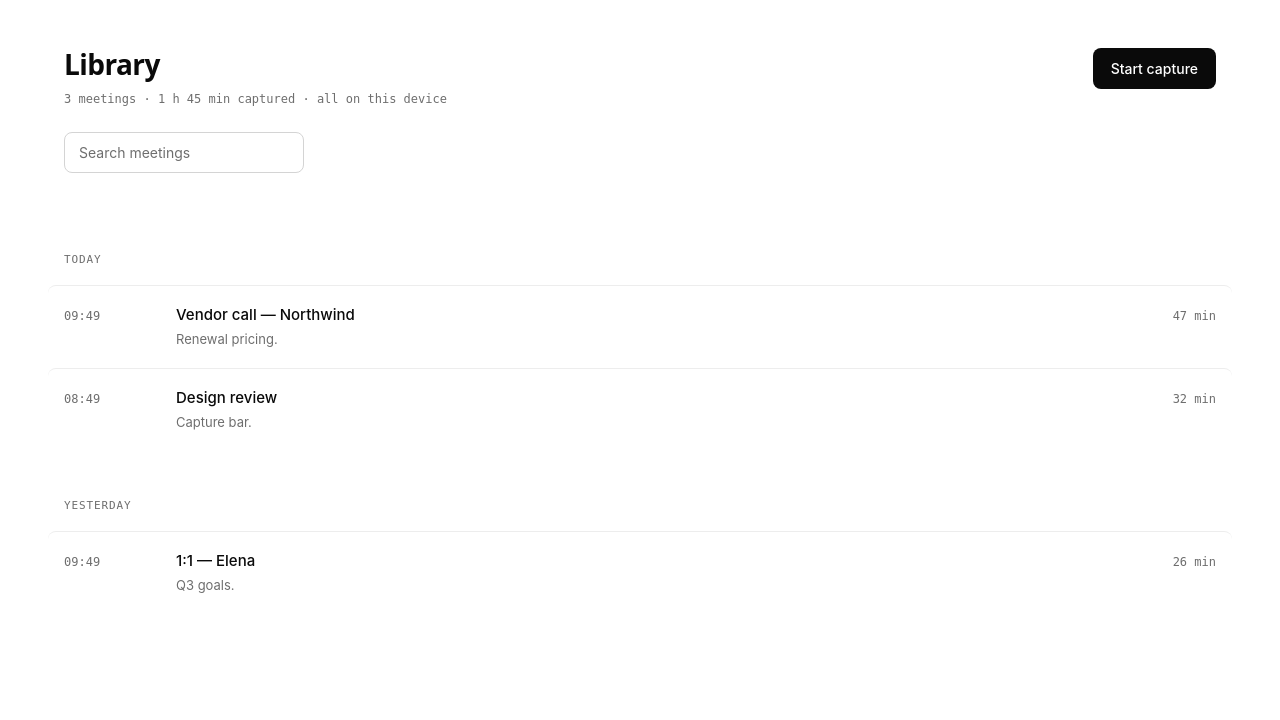
Test case: LibraryScreen search › typing filters the visible rows immediately
Type "northwind" into the search field labelled "Search meetings".
click(184, 152); type("northwind")  # box x1=64 y1=132 x2=304 y2=173
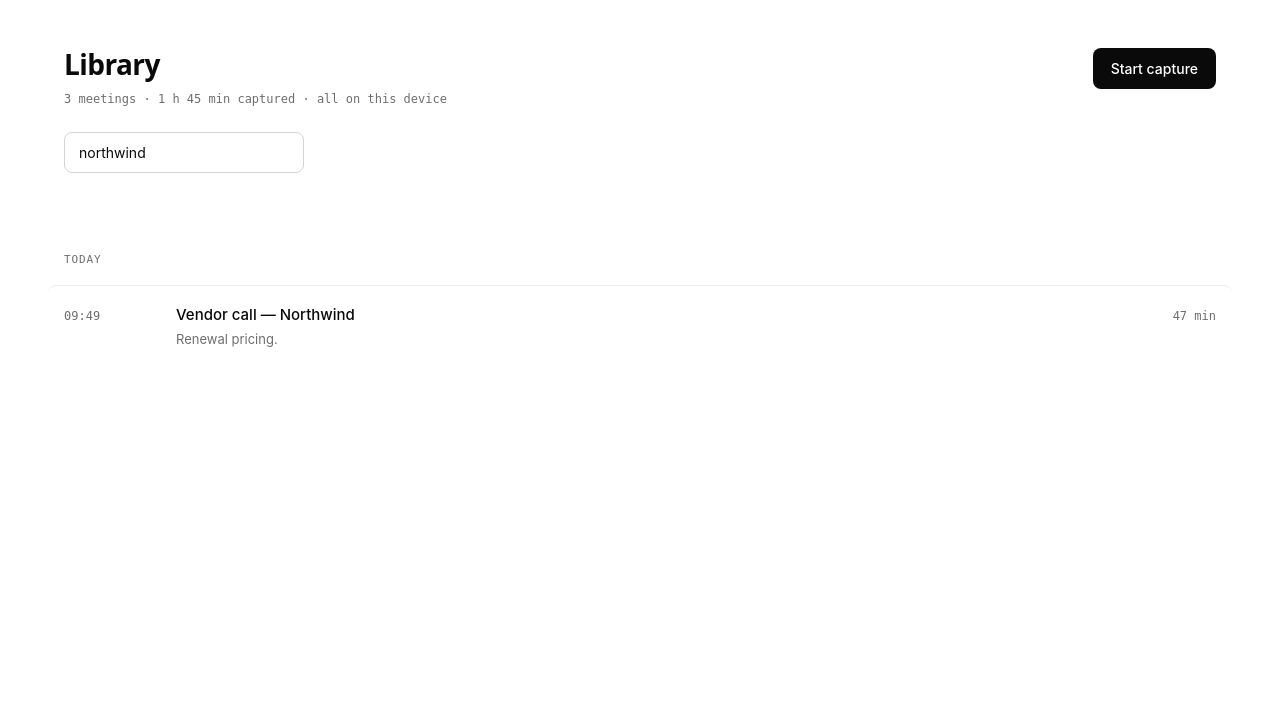
Check: the text "Vendor call — Northwind" is shown, box x1=176 y1=305 x2=355 y2=324
Check: the button "Design review" is gone
Check: the button "1:1 — Elena" is gone
